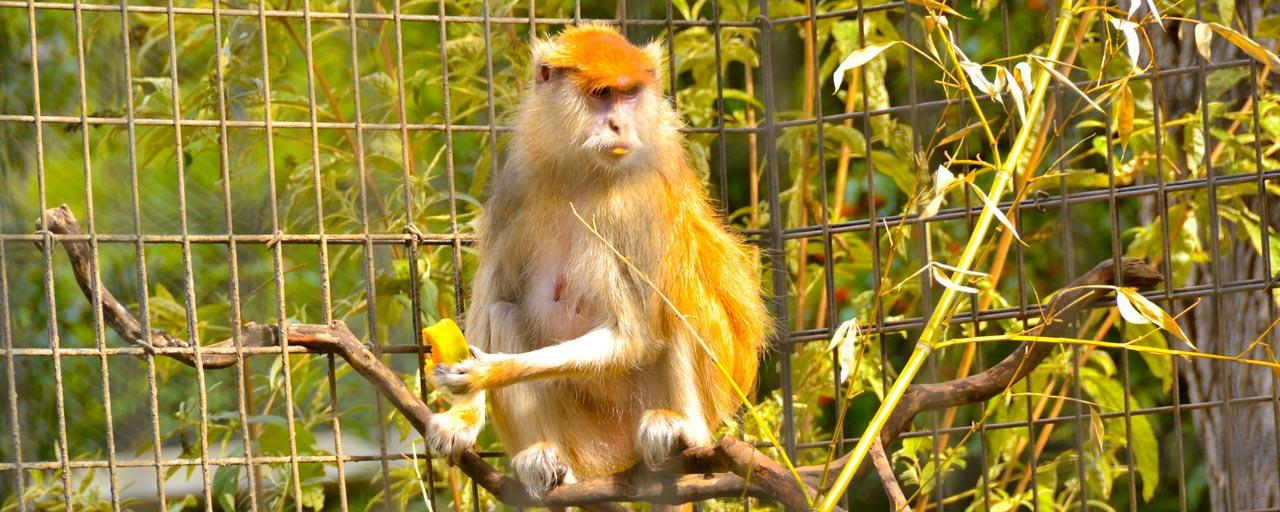monkey: (462, 26, 815, 512)
